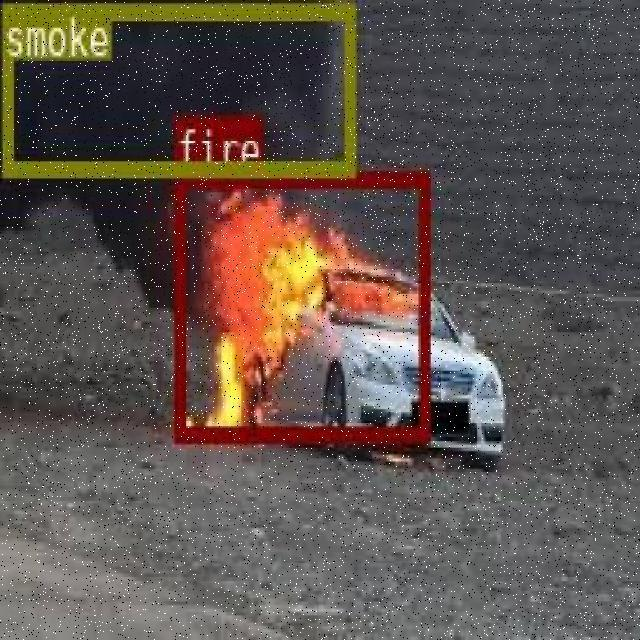Smoke: (0, 32, 288, 140)
